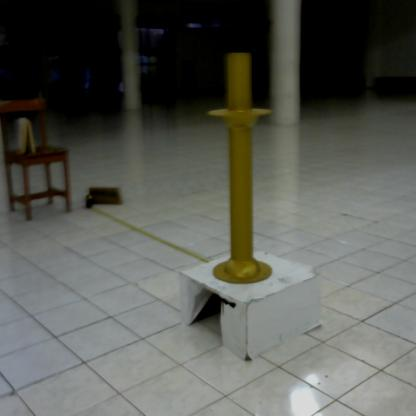pole: (210, 49, 277, 288)
